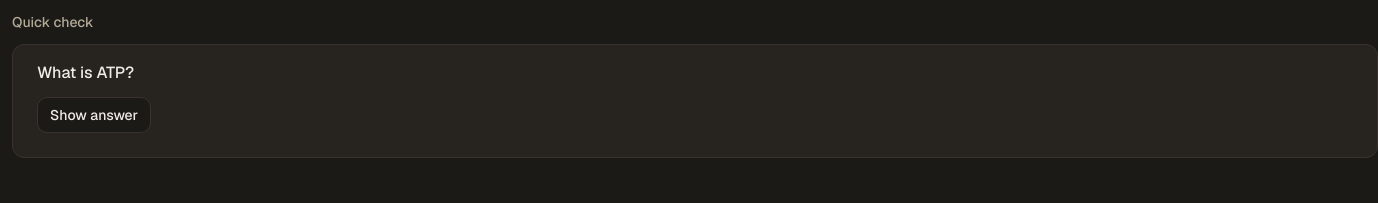
Test: InlineReview › reveals answer on tap and records result via Got it/Missed
The image size is (1378, 203).
expect the text "Y" is not shown: met
Click the button with test id "reveal-q1" at (94, 115), box [37,97,151,133]
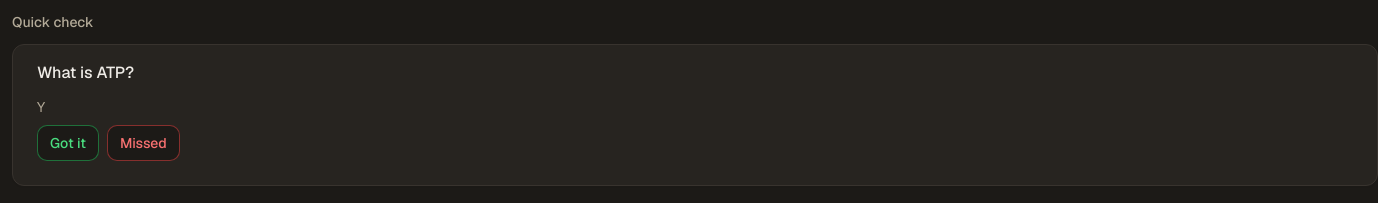
expect the text "Y" is shown: met, box [37,98,45,116]
Click the button with test id "got-it-q1" at (68, 143), box [37,125,99,161]
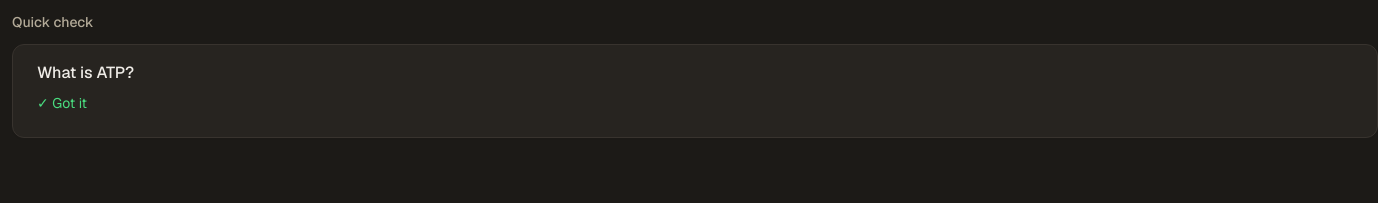
expect the element with test id "result-q1" shows "Got it": met, box [37,94,87,112]
